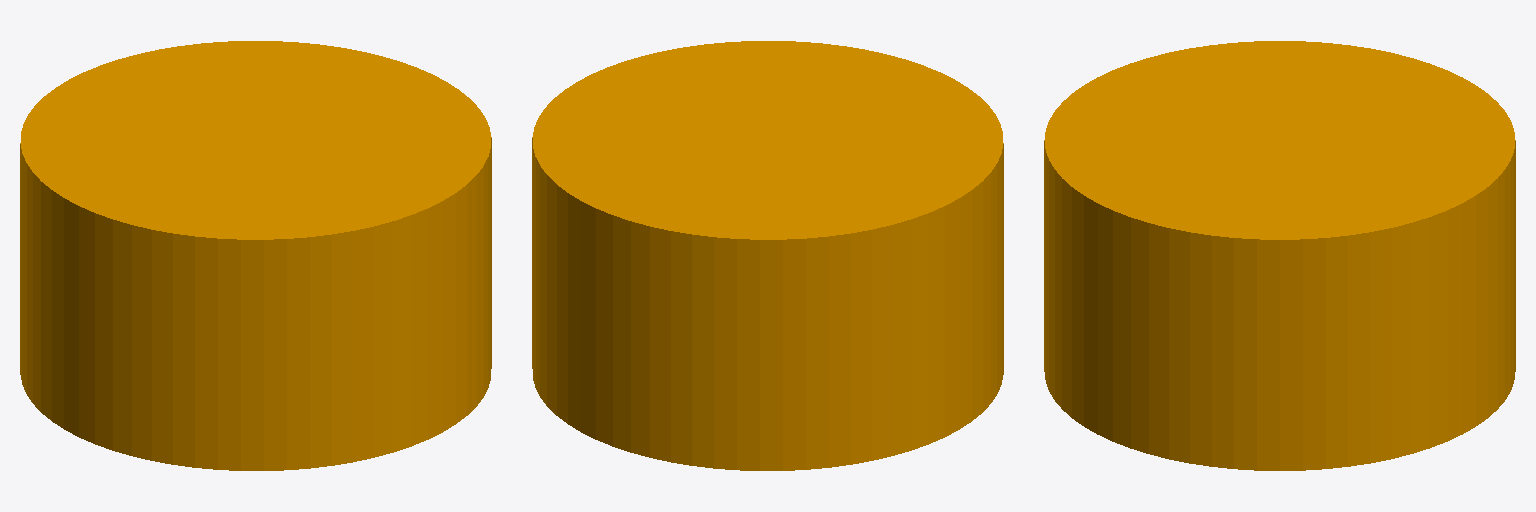
URDF robot description (spot_arm):
<?xml version="1.0" ?>
<!-- =================================================================================== -->
<!-- |    This document was autogenerated by xacro from src/Spot-Arm/spot_arm_description/urdf/spot_arm.xacro | -->
<!-- |    EDITING THIS FILE BY HAND IS NOT RECOMMENDED                                 | -->
<!-- =================================================================================== -->
<robot name="spot_arm">
  <link name="base_link">
    <inertial>
      <origin rpy="0 0 0" xyz="1.2371844231029972e-17 0.0 0.0325"/>
      <mass value="5.770791545379091"/>
      <inertia ixx="0.007226" ixy="-0.0" ixz="0.0" iyy="0.007226" iyz="0.0" izz="0.010387"/>
    </inertial>
    <visual>
      <origin rpy="0 0 0" xyz="0 0 0"/>
      <geometry>
        <mesh filename="package://spot_arm_description/meshes/base_link.stl" scale="0.001 0.001 0.001"/>
      </geometry>
      <material name="silver"/>
    </visual>
    <collision>
      <origin rpy="0 0 0" xyz="0 0 0"/>
      <geometry>
        <mesh filename="package://spot_arm_description/meshes/base_link.stl" scale="0.001 0.001 0.001"/>
      </geometry>
    </collision>
  </link>

  <joint name="joint_1" type="revolute">
    <origin rpy="0 0 0" xyz="0.0 0.0 0.065"/>
    <parent link="base_link"/>
    <child link="part_1"/>
    <axis xyz="0.0 0.0 1.0"/>
    <limit effort="100" lower="-3.141593" upper="2.617994" velocity="100"/>
  </joint>

  <link name="part_1">
    <inertial>
      <origin rpy="0 0 0" xyz="0.05071972800114364 -1.0308563411658574e-17 0.04676911608650795"/>
      <mass value="6.925827706354272"/>
      <inertia ixx="0.01241" ixy="-0.0" ixz="-0.001047" iyy="0.010387" iyz="0.0" izz="0.012306"/>
    </inertial>
    <visual>
      <origin rpy="0 0 0" xyz="-0.0 -0.0 -0.065"/>
      <geometry>
        <mesh filename="package://spot_arm_description/meshes/Part0_1.stl" scale="0.001 0.001 0.001"/>
      </geometry>
      <material name="silver"/>
    </visual>
    <collision>
      <origin rpy="0 0 0" xyz="-0.0 -0.0 -0.065"/>
      <geometry>
        <mesh filename="package://spot_arm_description/meshes/Part0_1.stl" scale="0.001 0.001 0.001"/>
      </geometry>
    </collision>
  </link>

  <joint name="joint_2" type="revolute">
    <origin rpy="0 0 0" xyz="0.015 0.0 0.05"/>
    <parent link="part_1"/>
    <child link="part_2"/>
    <axis xyz="-1.0 0.0 0.0"/>
    <limit effort="100" lower="-3.665191" upper="0.0" velocity="100"/>
  </joint>

  <link name="part_2">
    <inertial>
      <origin rpy="0 0 0" xyz="-0.0163095589512068 0.17540914221218962 0.0"/>
      <mass value="12.658281999999998"/>
      <inertia ixx="0.12979" ixy="0.002625" ixz="0.0" iyy="0.01004" iyz="0.0" izz="0.129493"/>
    </inertial>
    <visual>
      <origin rpy="0 0 0" xyz="-0.015 -0.0 -0.115"/>
      <geometry>
        <mesh filename="package://spot_arm_description/meshes/Part1_1.stl" scale="0.001 0.001 0.001"/>
      </geometry>
      <material name="silver"/>
    </visual>
    <collision>
      <origin rpy="0 0 0" xyz="-0.015 -0.0 -0.115"/>
      <geometry>
        <mesh filename="package://spot_arm_description/meshes/Part1_1.stl" scale="0.001 0.001 0.001"/>
      </geometry>
    </collision>
  </link>

  <joint name="joint_3" type="revolute">
    <origin rpy="0 0 0" xyz="0.002 0.3125 0.0"/>
    <parent link="part_2"/>
    <child link="part_3"/>
    <axis xyz="1.0 0.0 0.0"/>
    <limit effort="100" lower="0.0" upper="2.96706" velocity="100"/>
  </joint>
  
  <link name="part_3">
    <inertial>
      <origin rpy="0 0 0" xyz="-0.015621881612358529 0.06665620790957599 -0.058074231003688394"/>
      <mass value="7.368455487741179"/>
      <inertia ixx="0.018073" ixy="0.000915" ixz="-0.00101" iyy="0.011789" iyz="0.003728" izz="0.01667"/>
    </inertial>
    <visual>
      <origin rpy="0 0 0" xyz="-0.017 -0.3125 -0.115"/>
      <geometry>
        <mesh filename="package://spot_arm_description/meshes/Part2_1.stl" scale="0.001 0.001 0.001"/>
      </geometry>
      <material name="silver"/>
    </visual>
    <collision>
      <origin rpy="0 0 0" xyz="-0.017 -0.3125 -0.115"/>
      <geometry>
        <mesh filename="package://spot_arm_description/meshes/Part2_1.stl" scale="0.001 0.001 0.001"/>
      </geometry>
    </collision>
  </link>
  
  <joint name="joint_4" type="revolute">
    <origin rpy="0 0 0" xyz="-0.018 0.138 -0.0675"/>
    <parent link="part_3"/>
    <child link="part_4"/>
    <axis xyz="0.0 1.0 0.0"/>
    <limit effort="100" lower="-2.879793" upper="2.879793" velocity="100"/>
  </joint>
  
  <link name="part_4">
    <inertial>
      <origin rpy="0 0 0" xyz="-0.00911464892336129 0.12606054498393937 5.551115123125783e-17"/>
      <mass value="10.95245995004642"/>
      <inertia ixx="0.066789" ixy="0.011971" ixz="-0.0" iyy="0.014993" iyz="0.0" izz="0.071949"/>
    </inertial>
    <visual>
      <origin rpy="0 0 0" xyz="0.001 -0.4505 -0.0475"/>
      <geometry>
        <mesh filename="package://spot_arm_description/meshes/Part3_1.stl" scale="0.001 0.001 0.001"/>
      </geometry>
      <material name="silver"/>
    </visual>
    <collision>
      <origin rpy="0 0 0" xyz="0.001 -0.4505 -0.0475"/>
      <geometry>
        <mesh filename="package://spot_arm_description/meshes/Part3_1.stl" scale="0.001 0.001 0.001"/>
      </geometry>
    </collision>
  </link>
  
  <joint name="joint_5" type="revolute">
    <origin rpy="0 0 0" xyz="-0.0475 0.24809 0.0"/>
    <parent link="part_4"/>
    <child link="part_5"/>
    <axis xyz="1.0 0.0 0.0"/>
    <limit effort="100" lower="-1.570796" upper="1.570796" velocity="100"/>
  </joint>
  
  <link name="part_5">
    <inertial>
      <origin rpy="0 0 0" xyz="0.03954999709763633 0.03472006124891969 4.209155544249166e-08"/>
      <mass value="3.2278801394086396"/>
      <inertia ixx="0.00339" ixy="-2.1e-05" ixz="0.0" iyy="0.002242" iyz="-0.0" izz="0.003439"/>
    </inertial>
    <visual>
      <origin rpy="0 0 0" xyz="0.0485 -0.69859 -0.0475"/>
      <geometry>
        <mesh filename="package://spot_arm_description/meshes/Part4_1.stl" scale="0.001 0.001 0.001"/>
      </geometry>
      <material name="silver"/>
    </visual>
    <collision>
      <origin rpy="0 0 0" xyz="0.0485 -0.69859 -0.0475"/>
      <geometry>
        <mesh filename="package://spot_arm_description/meshes/Part4_1.stl" scale="0.001 0.001 0.001"/>
      </geometry>
    </collision>
  </link>

  <joint name="joint_6" type="revolute">
    <origin rpy="0 0 0" xyz="0.04 0.081 0.0"/>
    <parent link="part_5"/>
    <child link="gripper_1"/>
    <axis xyz="-0.0 1.0 0.0"/>
    <limit effort="100" lower="-2.96706" upper="2.96706" velocity="100"/>
  </joint>

  <link name="gripper_1">
    <inertial>
      <origin rpy="0 0 0" xyz="-8.366123908053191e-08 0.07051371901138614 0.017123167388316526"/>
      <mass value="5.9780007036604434"/>
      <inertia ixx="0.01723" ixy="0.0" ixz="0.0" iyy="0.00734" iyz="-0.003871" izz="0.0153"/>
    </inertial>
    <visual>
      <origin rpy="0 0 0" xyz="0.0085 -0.77959 -0.0475"/>
      <geometry>
        <mesh filename="package://spot_arm_description/meshes/gripper_1.stl" scale="0.001 0.001 0.001"/>
      </geometry>
      <material name="silver"/>
    </visual>
    <collision>
      <origin rpy="0 0 0" xyz="0.0085 -0.77959 -0.0475"/>
      <geometry>
        <mesh filename="package://spot_arm_description/meshes/gripper_1.stl" scale="0.001 0.001 0.001"/>
      </geometry>
    </collision>
  </link>

  <joint name="gripper_joint" type="revolute">
    <origin rpy="0 0 0" xyz="-0.86859 0.043915 -0.029"/>
    <parent link="gripper_1"/>
    <child link="finger_1"/>
    <axis xyz="1.0 -0.0 0.0"/>
    <limit effort="100" lower="-1.396263" upper="0.349066" velocity="100"/>
  </joint>

  <link name="finger_1">
    <inertial>
      <origin rpy="0 0 0" xyz="0.8635899028063472 0.09862056591557622 0.00850232975194119"/>
      <mass value="1.71236178687828"/>
      <inertia ixx="0.002129" ixy="0.0" ixz="-0.0" iyy="0.001681" iyz="0.000162" izz="0.003403"/>
    </inertial>
    <visual>
      <origin rpy="0 0 0" xyz="0.87709 -0.823505 -0.0185"/>
      <geometry>
        <mesh filename="package://spot_arm_description/meshes/finger_1.stl" scale="0.001 0.001 0.001"/>
      </geometry>
      <material name="silver"/>
    </visual>
    <collision>
      <origin rpy="0 0 0" xyz="0.87709 -0.823505 -0.0185"/>
      <geometry>
        <mesh filename="package://spot_arm_description/meshes/finger_1.stl" scale="0.001 0.001 0.001"/>
      </geometry>
    </collision>
  </link>


  


  



</robot>

--- Facts derived from the render (not from the file) ---
The picture shows the robot from 3 angles, left to right: view 1: azimuth 30°, elevation 25°; view 2: azimuth 150°, elevation 25°; view 3: azimuth 270°, elevation 25°; orthographic projection.
Robot: spot_arm — 8 links, 7 joints (7 revolute); root link base_link; default pose: all joints at 0.
Links seen in each view (by area): view 1: base_link; view 2: base_link; view 3: base_link.
Link boxes in pixels (<box>): base_link: <box>20,41,491,470</box>; base_link: <box>532,41,1003,470</box>; base_link: <box>1044,41,1515,470</box>.
Bounding box of the posed robot: 0.12 × 0.12 × 0.065 m (x, y, z).
Meshes: 8 distinct files referenced, 1 mesh visuals loaded (1 ASCII STL); not drawn: 7 (reference not matched to a file when rendering).